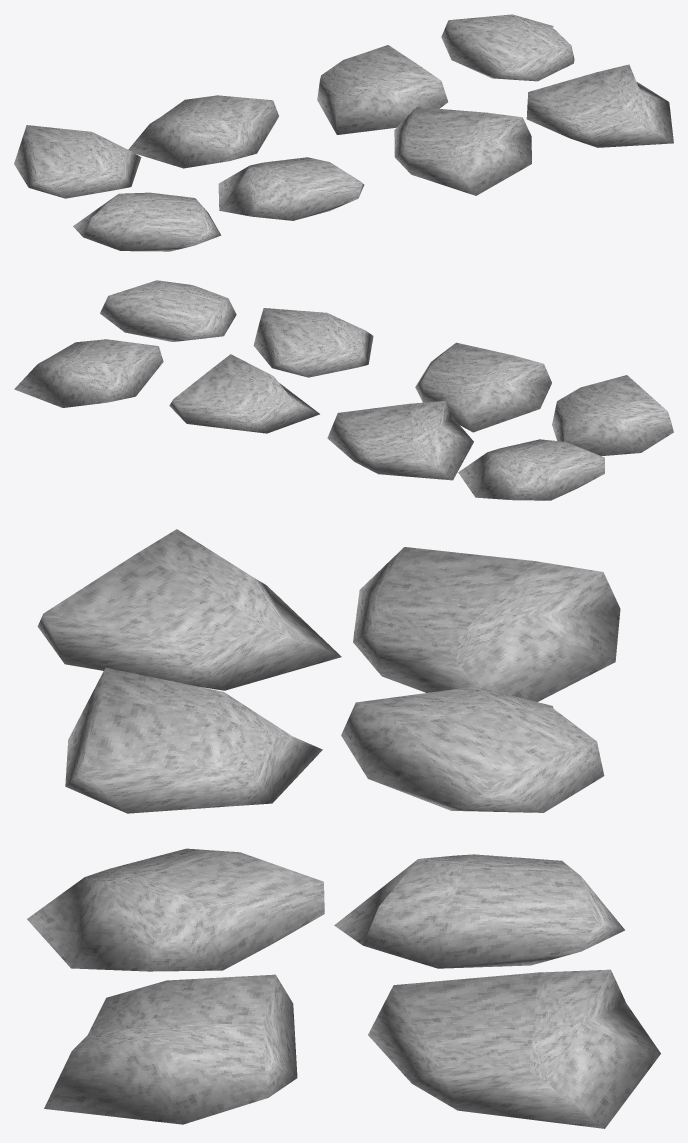
The model's file is rock_path.glb.
3 views of the same model, one above another, from view 1: azimuth 30°, elevation 25°; view 2: azimuth 150°, elevation 25°; view 3: azimuth 270°, elevation 25° (orthographic). The views are drawn at different scales.
Visible parts, largest first — view 1: rock9.002, rock9.001, rock9.003, rock9.004, rock9.007, rock9.005, rock9, rock9.006; view 2: rock9.004, rock9.005, rock9, rock9.006, rock9.003, rock9.007, rock9.002, rock9.001; view 3: rock9, rock9.007, rock9.001, rock9.006, rock9.002, rock9.005, rock9.004, rock9.003.
Part boxes in pixels (x1,y1,x2,y2): rock9.002: (394,107,531,195); rock9.001: (526,64,673,147); rock9.003: (317,45,447,134); rock9.004: (128,95,278,168); rock9.007: (14,125,141,198); rock9.005: (218,157,364,220); rock9: (441,14,574,81); rock9.006: (73,192,221,251); rock9.004: (327,401,473,480); rock9.005: (415,342,551,432); rock9: (14,339,163,407); rock9.006: (552,375,673,455); rock9.003: (169,354,319,433); rock9.007: (458,439,604,500); rock9.002: (253,308,373,377); rock9.001: (100,280,236,341); rock9: (368,969,660,1128); rock9.007: (353,547,620,701); rock9.001: (44,974,297,1124); rock9.006: (37,529,341,690); rock9.002: (27,848,324,971); rock9.005: (65,667,322,813); rock9.004: (341,686,604,812); rock9.003: (334,854,624,968).
Size of the model in its own units: 5.06 by 0.2834 by 2.46.
1 material, 1 textured.
